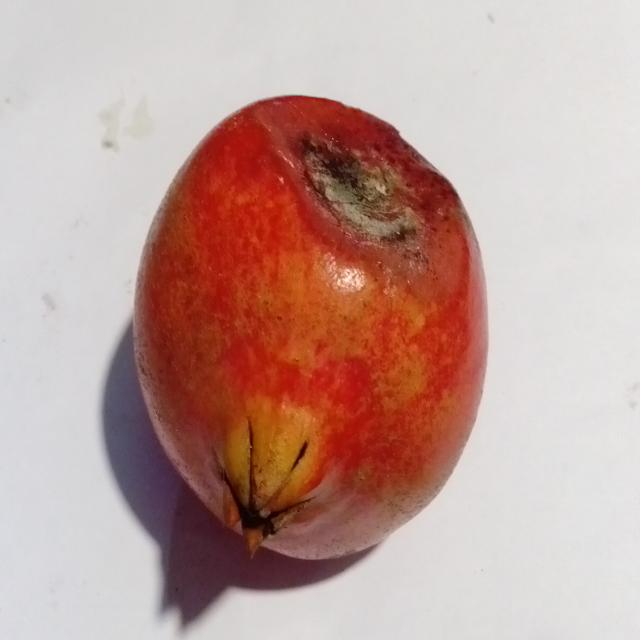Rotten: (134, 93, 491, 564)
